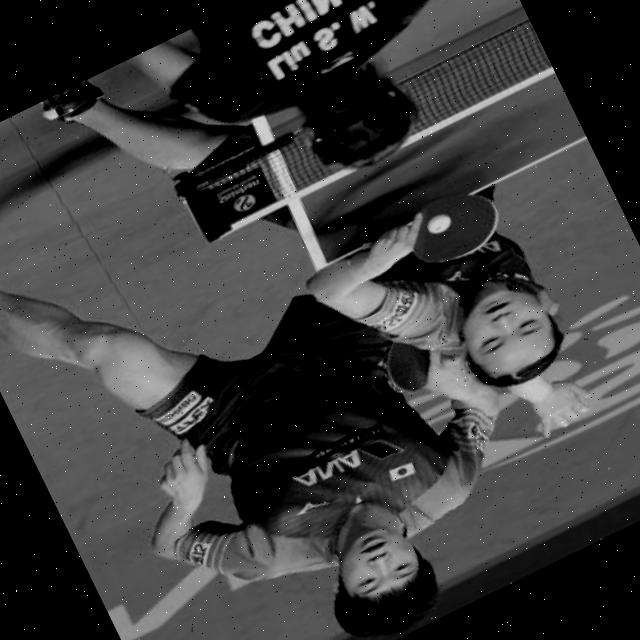ping-pong-ball: (416, 208, 454, 240)
